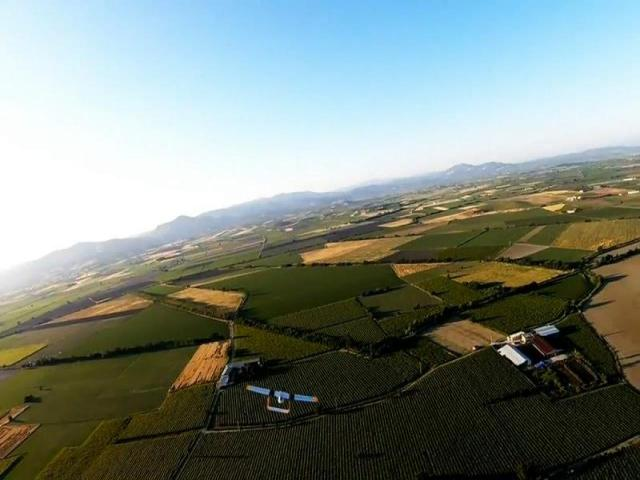hedef: (246, 376, 320, 418)
